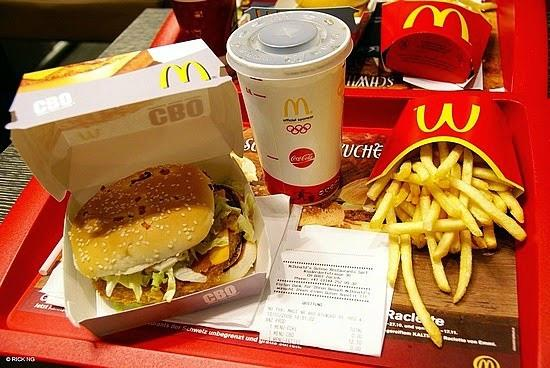mcdonalds: (397, 2, 480, 47), (407, 98, 487, 136), (159, 59, 213, 92), (280, 95, 315, 119)
